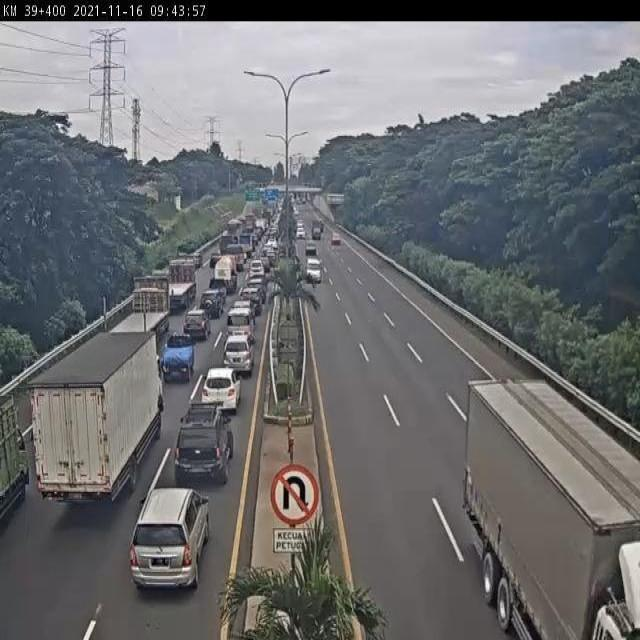Car: (132, 493, 208, 601), (173, 395, 238, 478), (201, 366, 242, 412), (160, 332, 196, 382), (222, 334, 255, 376), (183, 308, 211, 341), (199, 288, 227, 318), (226, 307, 254, 335), (240, 287, 262, 313), (306, 256, 322, 283), (271, 200, 285, 227), (249, 260, 264, 280), (258, 254, 272, 272), (210, 252, 222, 269), (312, 222, 323, 240), (305, 241, 316, 256), (268, 228, 278, 244), (331, 232, 341, 246), (296, 227, 305, 240), (292, 206, 299, 218), (297, 220, 304, 230)
Truck: (457, 378, 637, 640), (27, 329, 163, 506), (166, 258, 198, 315), (133, 274, 169, 321), (212, 255, 237, 295), (218, 230, 238, 258), (261, 270, 276, 290), (244, 214, 256, 232), (241, 243, 253, 260), (254, 223, 264, 242), (262, 208, 272, 225), (276, 242, 286, 257), (287, 194, 296, 207), (300, 197, 306, 204), (305, 196, 311, 203)
